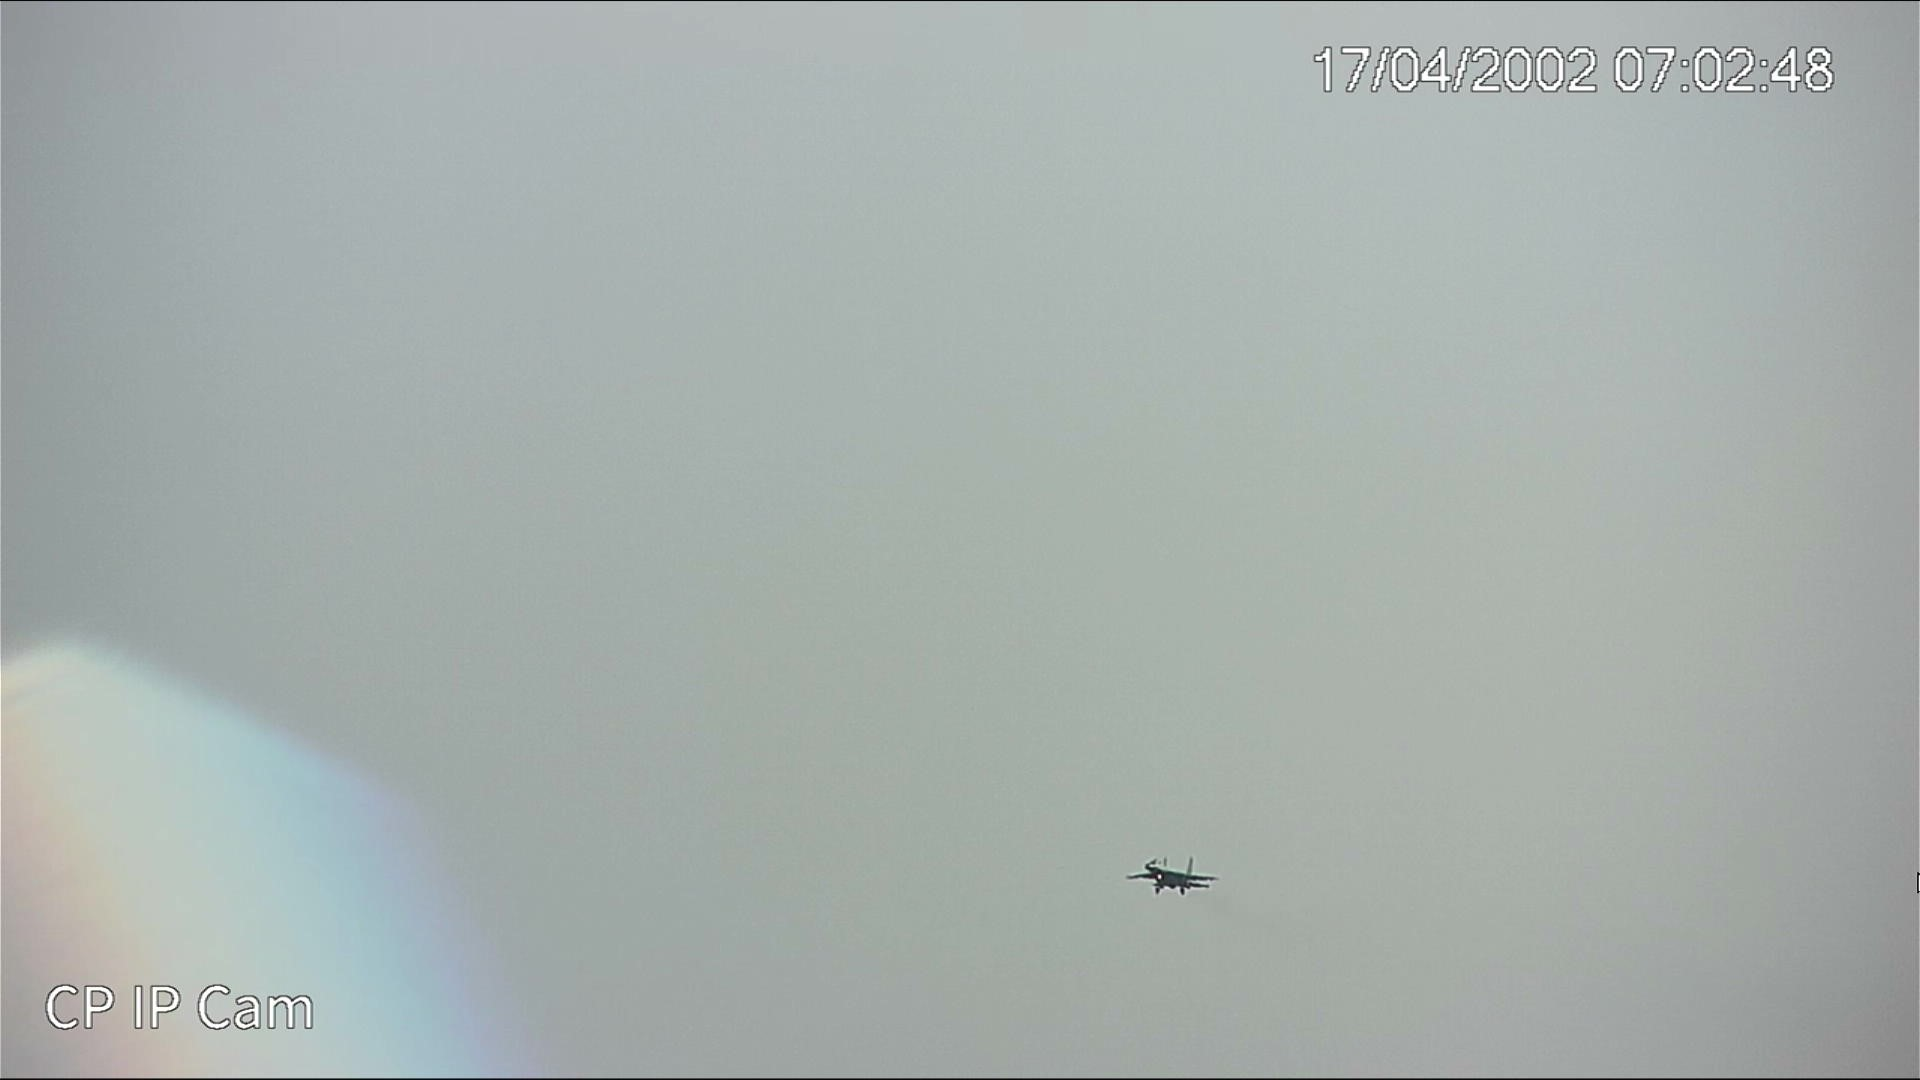SU_30: (1127, 852, 1216, 891)
